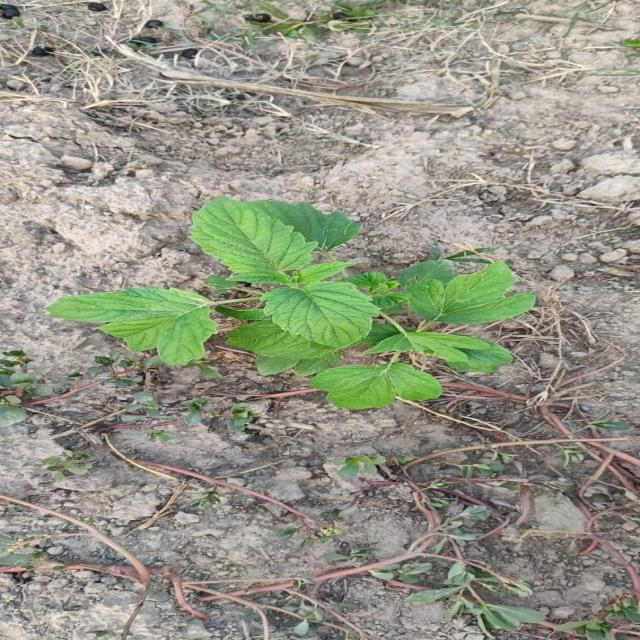plant: (48, 198, 536, 409)
